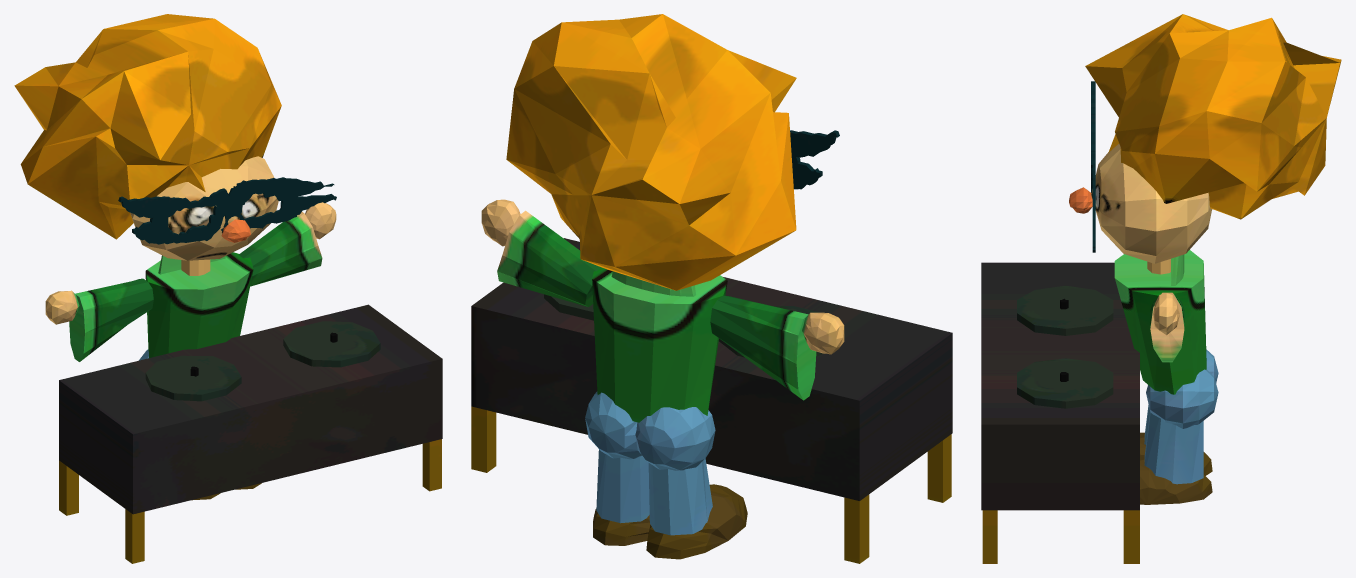
The picture shows the model from 3 angles, left to right: view 1: azimuth 30°, elevation 25°; view 2: azimuth 150°, elevation 25°; view 3: azimuth 270°, elevation 25°; orthographic projection. The views are drawn at different scales.
Visible parts, largest first — view 1: DJ; view 2: DJ; view 3: DJ.
Part boxes in pixels (x1,y1,x2,y2): DJ: (14, 14, 442, 563); DJ: (471, 14, 952, 563); DJ: (981, 14, 1341, 563).
Bounding box in the file's own units: 140 × 180 × 132.
Materials: 1 (1 with a texture image).
